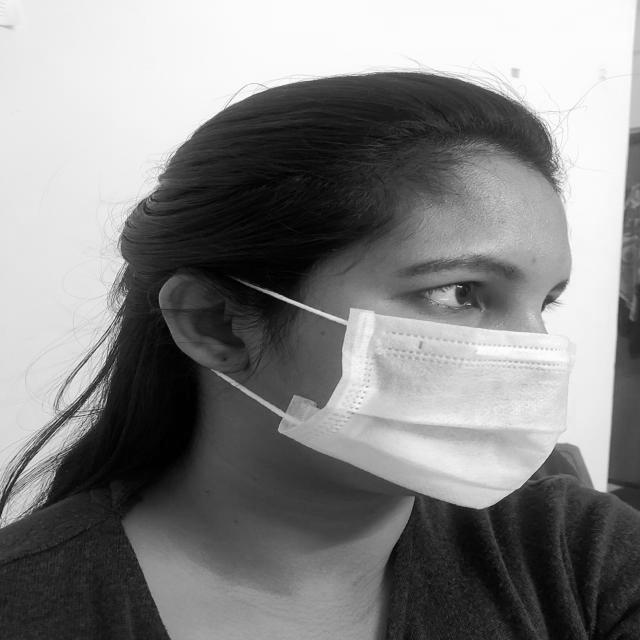fake: (281, 304, 580, 531)
real: (309, 142, 574, 505)
